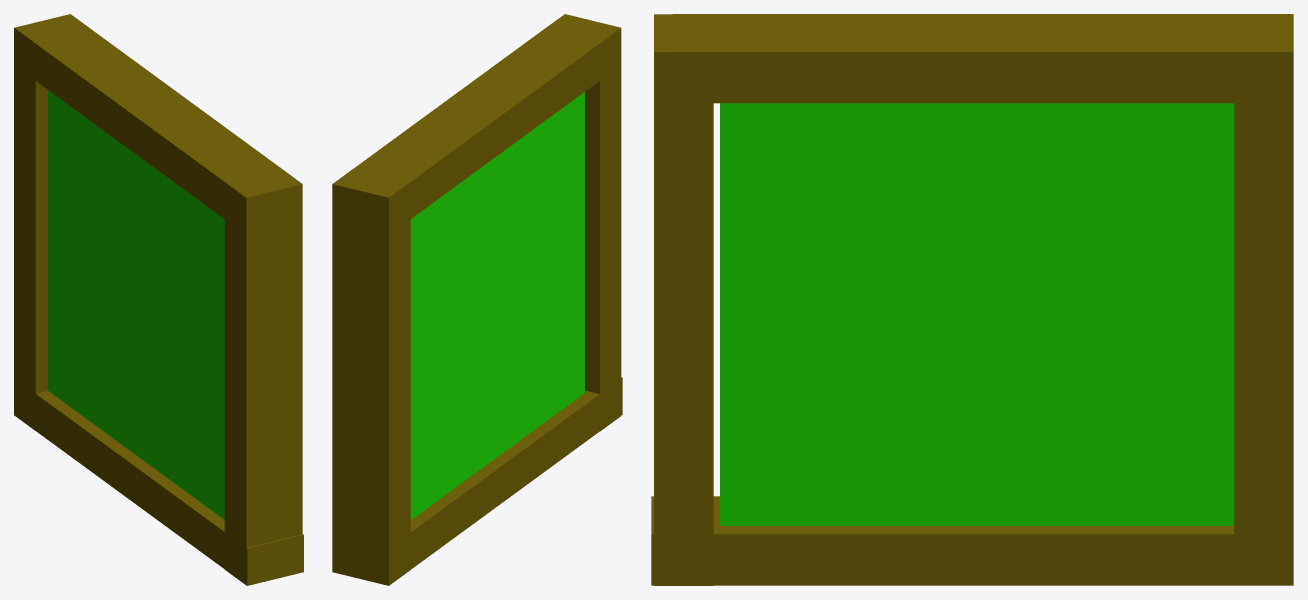
File: greenpaint.fbx
3 renders of one model, left to right at view 1: azimuth 30°, elevation 25°; view 2: azimuth 150°, elevation 25°; view 3: azimuth 270°, elevation 25°, orthographic. The views are drawn at different scales.
Parts seen in each view (by area): view 1: Cube, Cube.002, Cube.001, Cube.004, Cube.003; view 2: Cube, Cube.004, Cube.001, Cube.002, Cube.003; view 3: Cube, Cube.001, Cube.003, Cube.004, Cube.002.
Part boxes in pixels (x1=…): Cube: x1=48, y1=90, x2=224, y2=519; Cube.002: x1=224, y1=179, x2=302, y2=585; Cube.001: x1=15, y1=28, x2=295, y2=229; Cube.004: x1=14, y1=14, x2=91, y2=430; Cube.003: x1=23, y1=385, x2=303, y2=585; Cube: x1=410, y1=92, x2=584, y2=519; Cube.004: x1=332, y1=168, x2=410, y2=585; Cube.001: x1=354, y1=19, x2=614, y2=233; Cube.002: x1=559, y1=14, x2=621, y2=431; Cube.003: x1=397, y1=377, x2=622, y2=578; Cube: x1=720, y1=103, x2=1234, y2=525; Cube.001: x1=672, y1=14, x2=1291, y2=103; Cube.003: x1=651, y1=496, x2=1269, y2=585; Cube.004: x1=1234, y1=14, x2=1293, y2=585; Cube.002: x1=654, y1=14, x2=713, y2=585.
Bounding box in the file's own units: 34.28 × 225 × 246.
